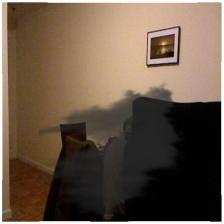fire: (39, 79, 188, 221)
